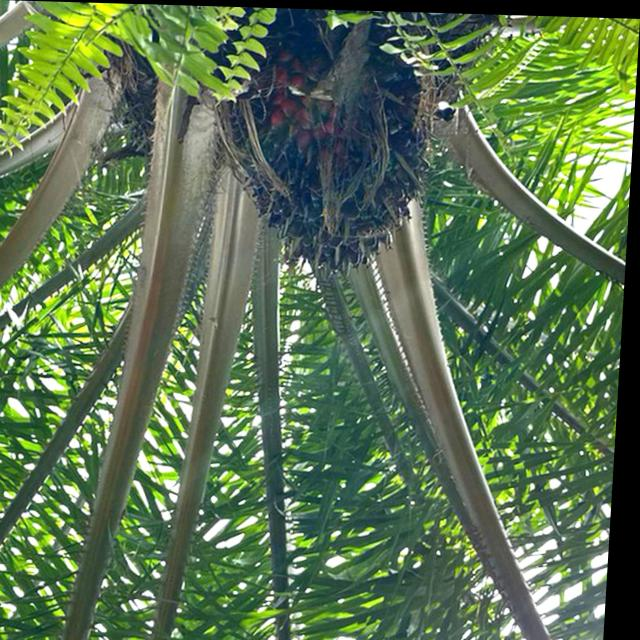ripe: (213, 10, 450, 288)
